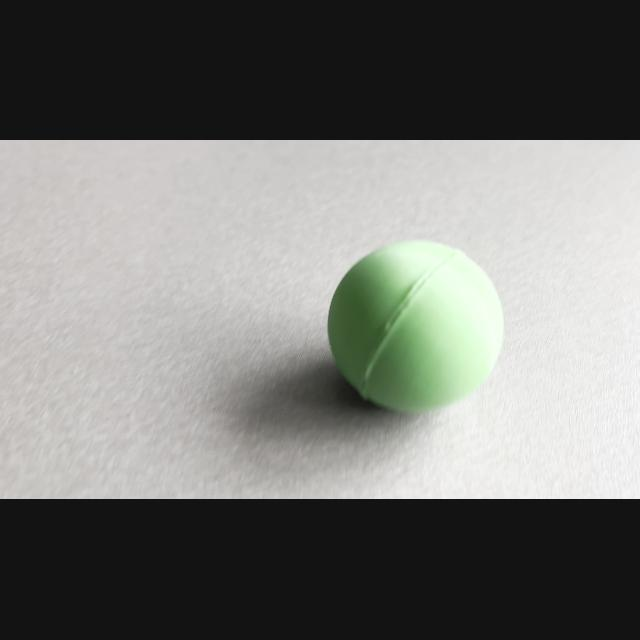objects: (322, 228, 510, 418)
